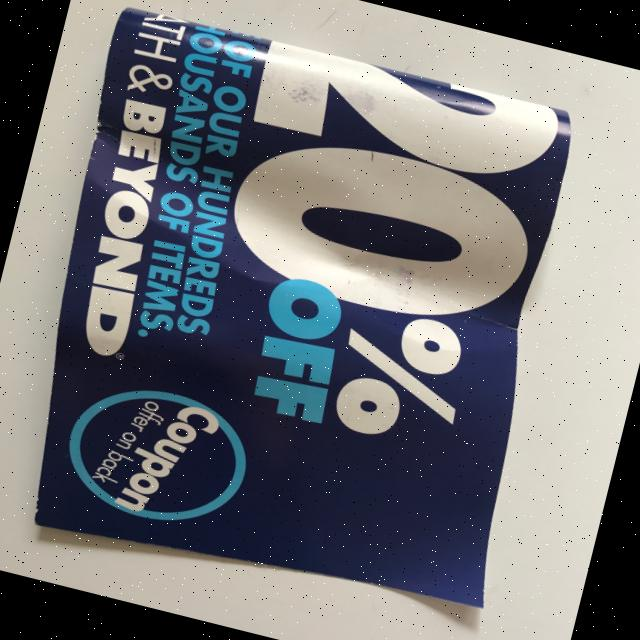paper: (0, 0, 605, 634)
